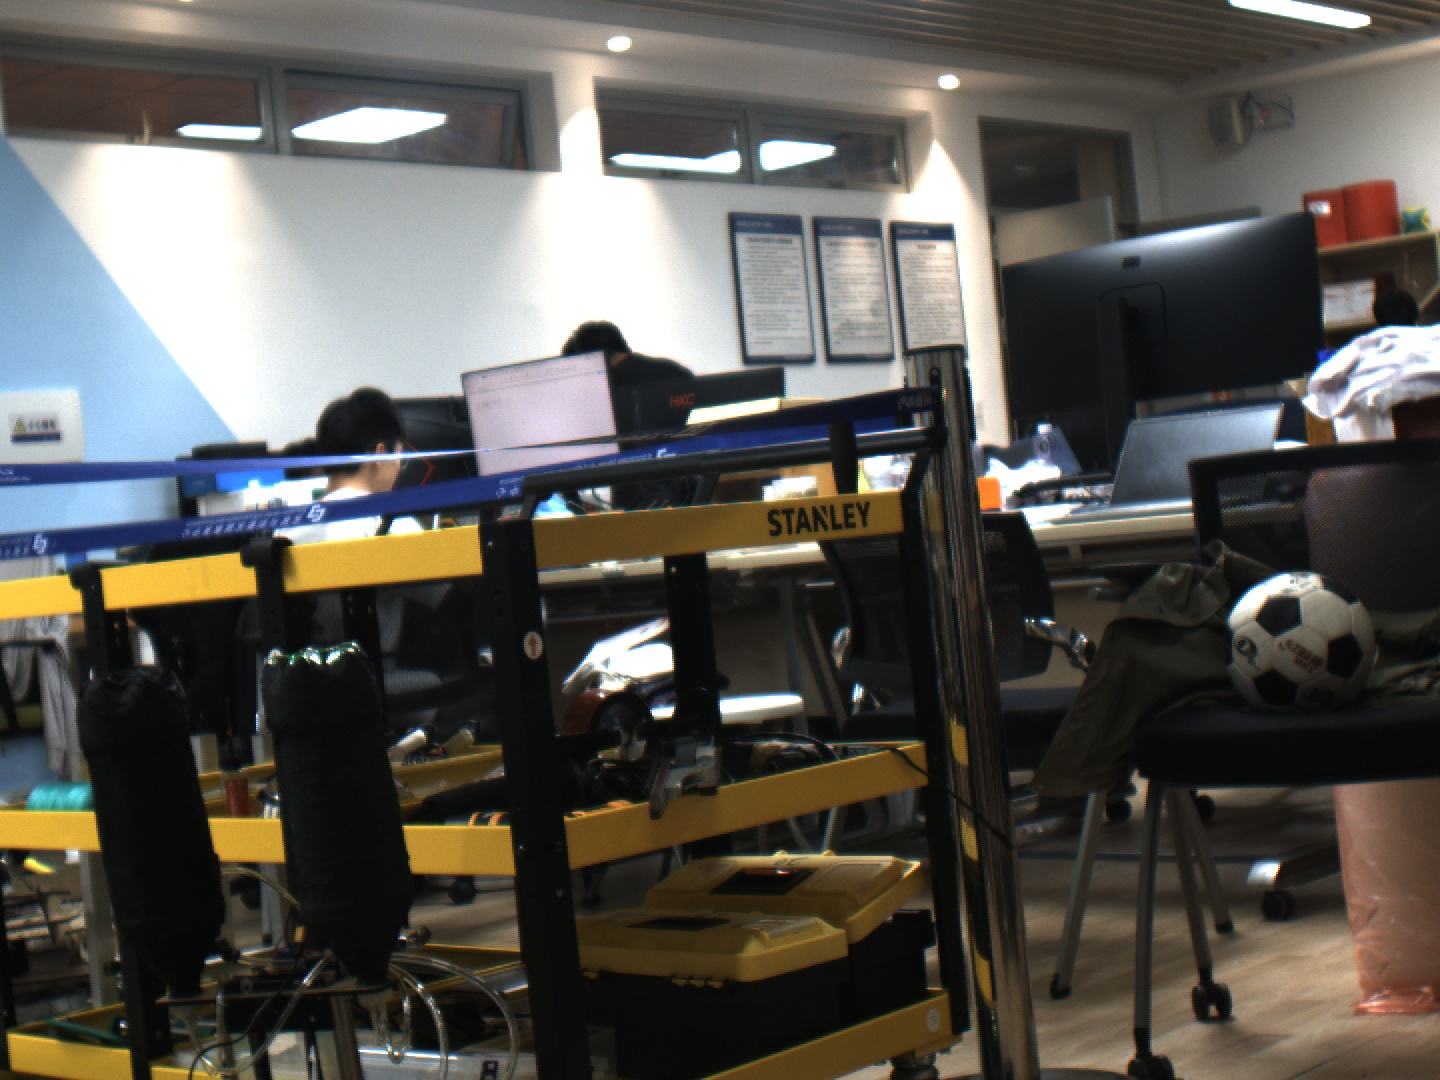ball: (1210, 559, 1391, 715)
